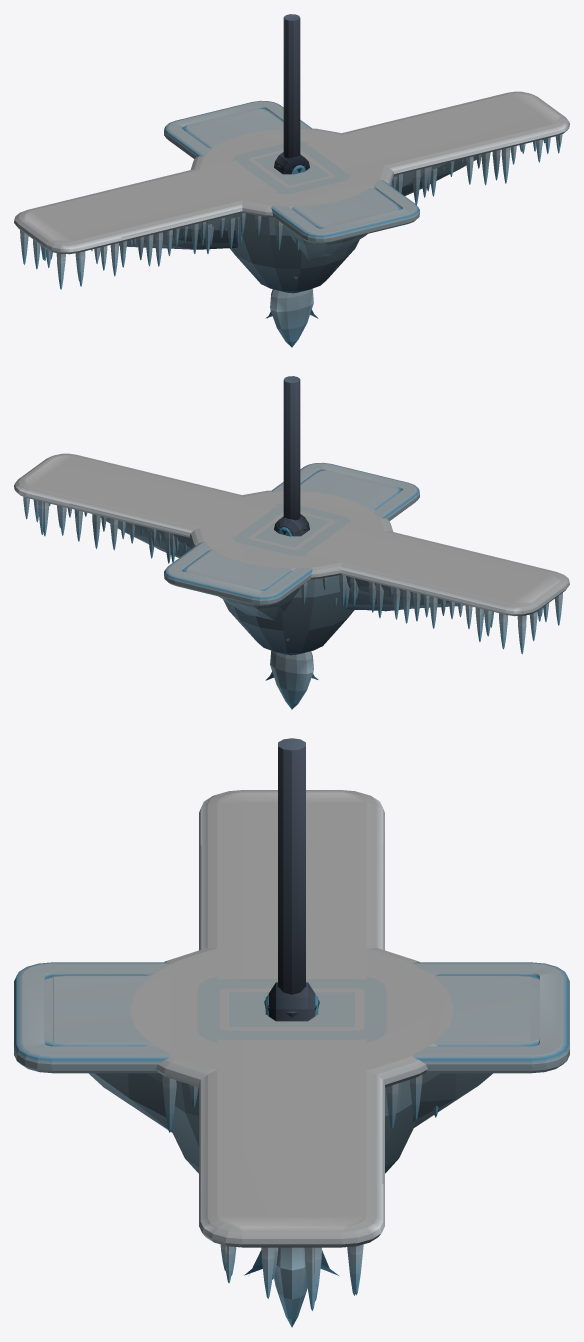
Rendered from glacier-5-Szblr754.glb.
3 renders of one model, top to bottom at view 1: azimuth 30°, elevation 25°; view 2: azimuth 150°, elevation 25°; view 3: azimuth 270°, elevation 25°, orthographic. The views are drawn at different scales.
Visible parts, largest first — view 1: block_36x2x6#1, disc_12x1.5#1, block_8x2x19_ice#0, block_36x2x6#0, press_4x6x7#0, block_5.5x2x7_ice#1, block_30x2x6_grate#1, blade_3x12x1#0, block_6x2x18_ice#1; view 2: block_36x2x6#1, disc_12x1.5#1, block_8x2x19_ice#0, block_36x2x6#0, press_4x6x7#0, block_30x2x6_grate#1, block_5.5x2x7_ice#1, blade_3x12x1#0, block_6x2x18_ice#1; view 3: block_36x2x6#1, block_8x2x19_ice#0, disc_12x1.5#1, block_5.5x2x7_ice#1, press_4x6x7#0, blade_3x12x1#0, block_6x2x18_ice#1, block_36x2x6#0, block_30x2x6_grate#1.
Part boxes in pixels (<box>): block_36x2x6#1: <box>14,91,569,281</box>; disc_12x1.5#1: <box>190,128,393,293</box>; block_8x2x19_ice#0: <box>164,100,419,259</box>; block_36x2x6#0: <box>17,128,568,289</box>; press_4x6x7#0: <box>277,14,338,278</box>; block_5.5x2x7_ice#1: <box>236,142,347,193</box>; block_30x2x6_grate#1: <box>91,141,516,270</box>; blade_3x12x1#0: <box>270,152,313,347</box>; block_6x2x18_ice#1: <box>183,108,400,228</box>; block_36x2x6#1: <box>14,453,569,647</box>; disc_12x1.5#1: <box>190,490,393,655</box>; block_8x2x19_ice#0: <box>164,462,419,620</box>; block_36x2x6#0: <box>15,490,566,654</box>; press_4x6x7#0: <box>245,376,306,640</box>; block_30x2x6_grate#1: <box>67,503,493,641</box>; block_5.5x2x7_ice#1: <box>236,504,347,555</box>; blade_3x12x1#0: <box>270,514,313,709</box>; block_6x2x18_ice#1: <box>183,470,400,590</box>; block_36x2x6#1: <box>199,790,384,1301</box>; block_8x2x19_ice#0: <box>14,962,569,1132</box>; disc_12x1.5#1: <box>129,948,454,1173</box>; block_5.5x2x7_ice#1: <box>197,979,386,1039</box>; press_4x6x7#0: <box>264,738,319,1017</box>; blade_3x12x1#0: <box>265,982,318,1327</box>; block_6x2x18_ice#1: <box>44,974,539,1046</box>; block_36x2x6#0: <box>203,1234,380,1310</box>; block_30x2x6_grate#1: <box>200,845,383,1184</box>.
Size of the model in its own units: 36.36 by 22 by 19.
